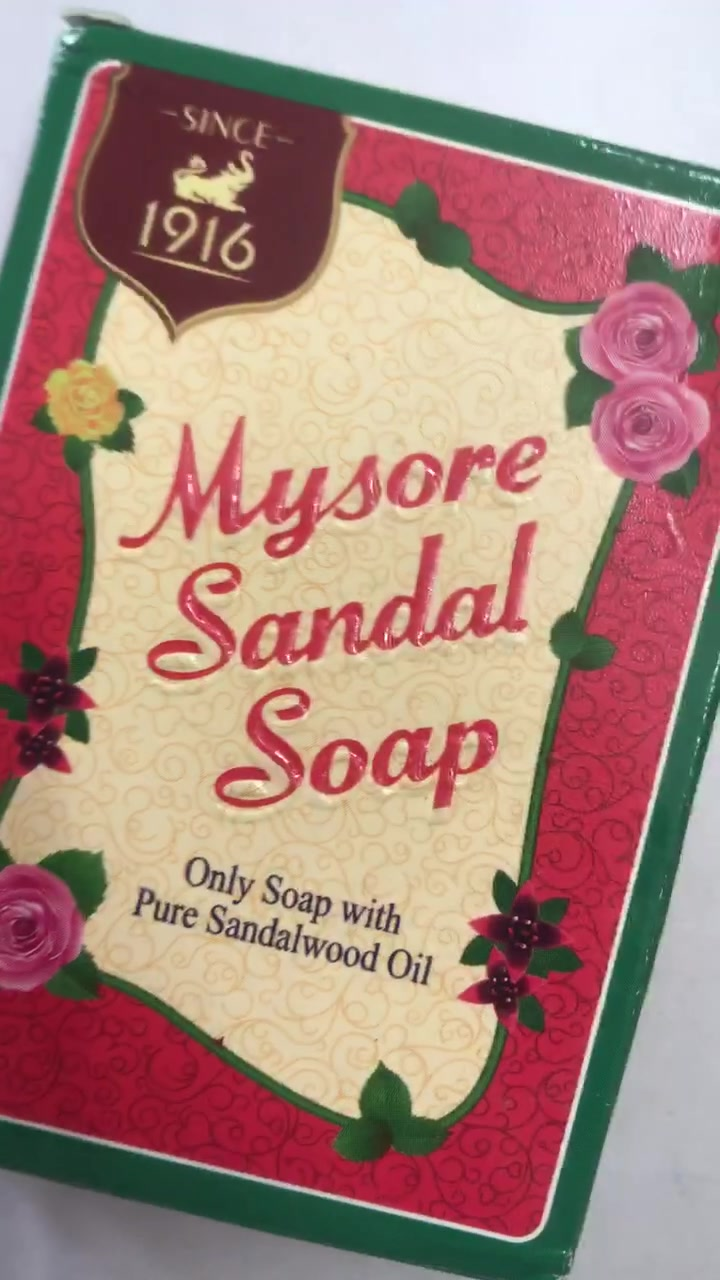mysore sandal soap: (30, 123, 673, 1088)
